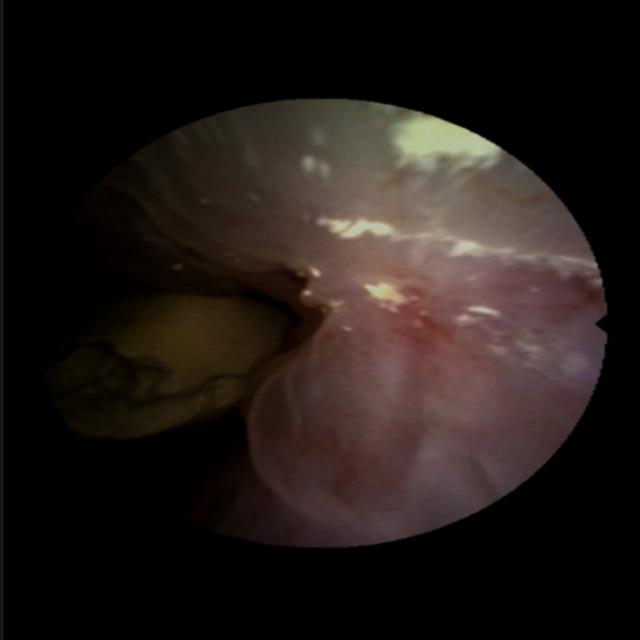stone: (45, 292, 294, 449), (388, 118, 498, 170)
tissue: (48, 113, 604, 540)
